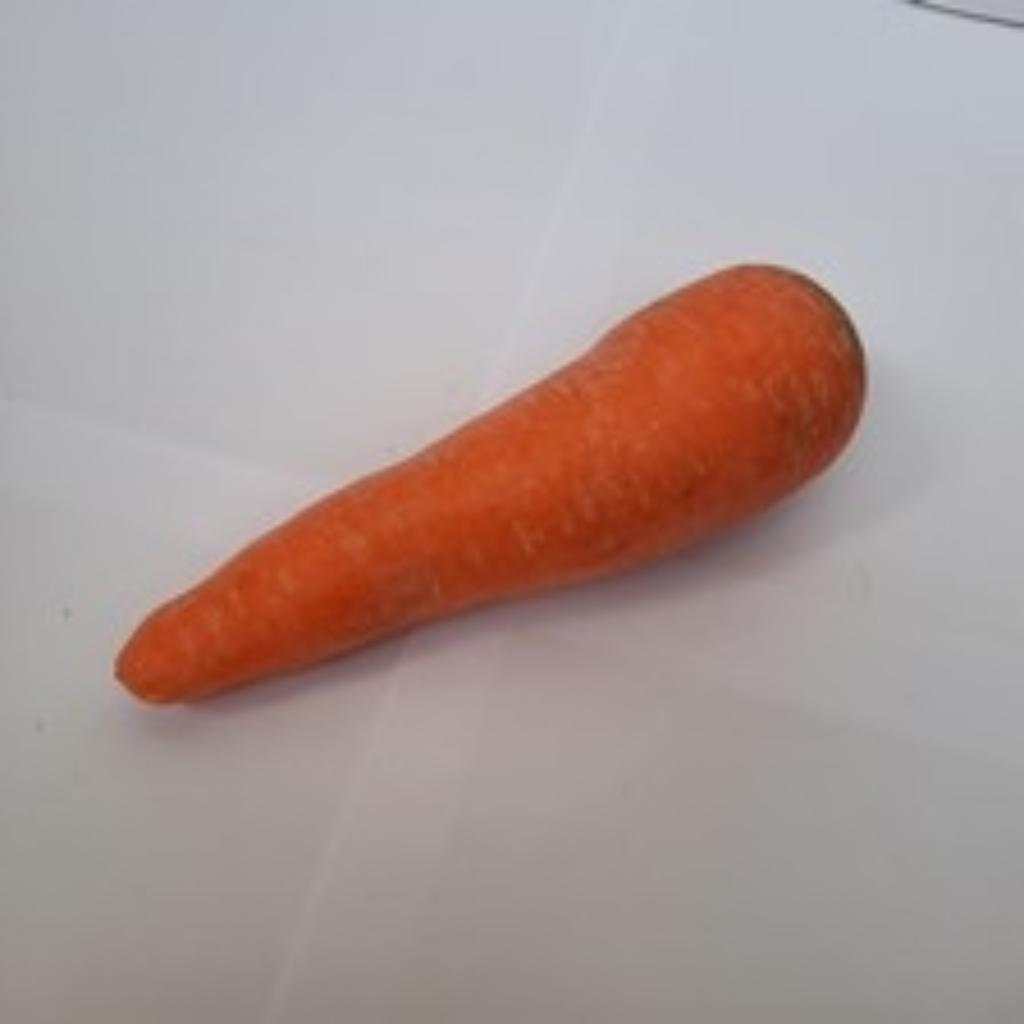carrot: (110, 261, 855, 690)
